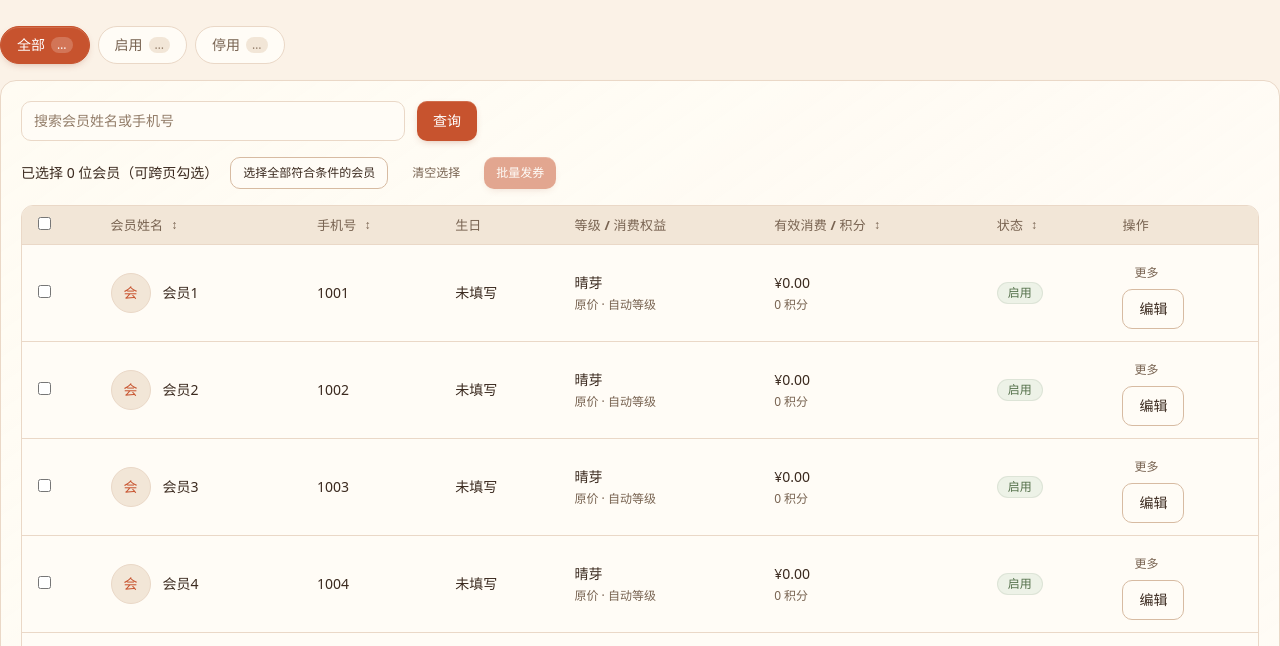
会员批量选择 › 全量选择跨页生效，改搜索条件会清空选择
Click the button "选择全部符合条件的会员".
click(309, 172)  # box [230,156,388,188]
(page scrolled)
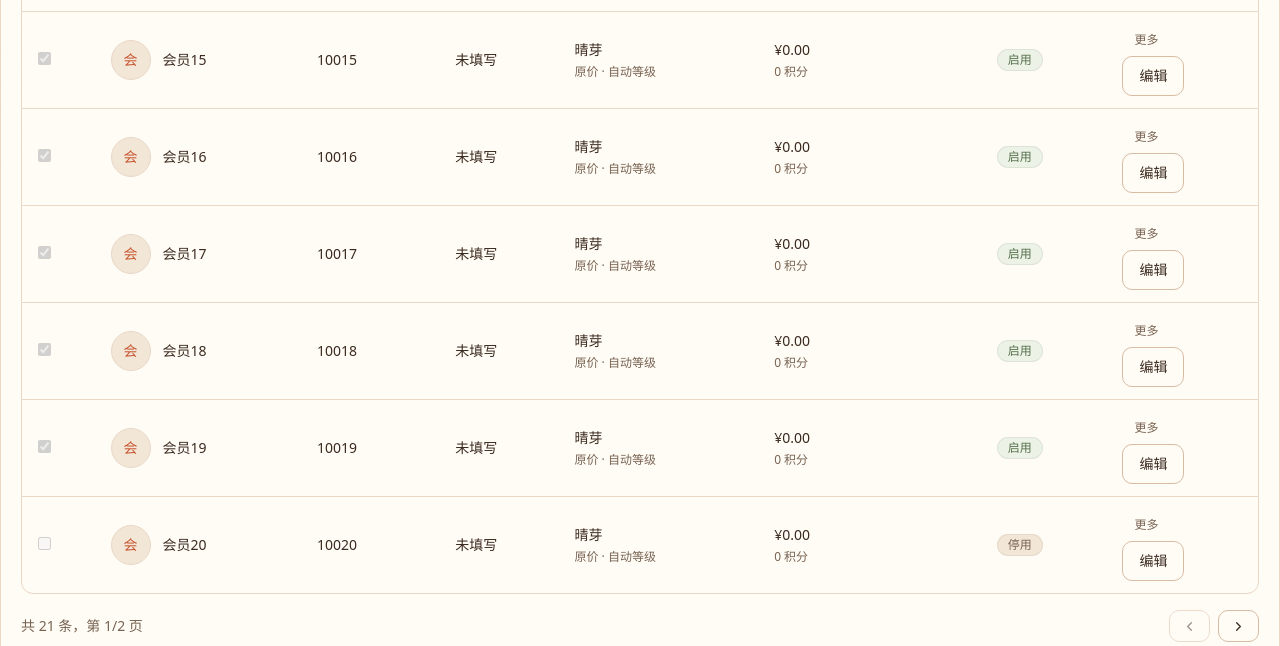
Click the button named "下一页".
click(1238, 626)  # box [1218,610,1259,642]
(page scrolled)
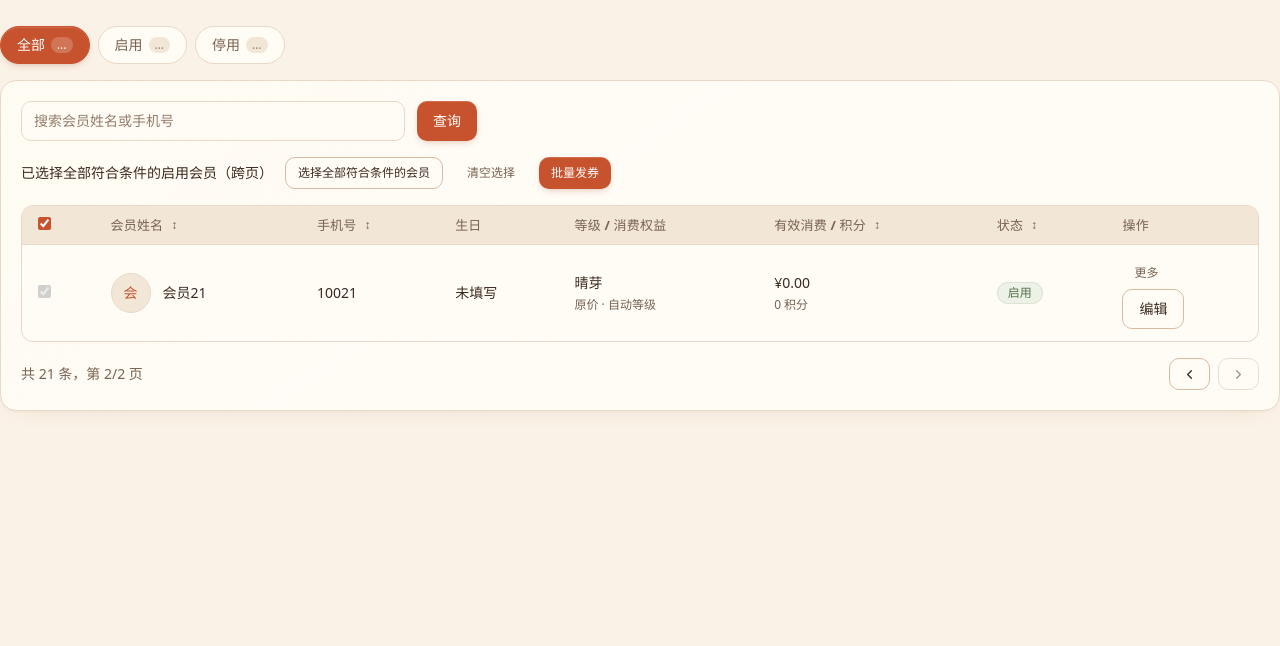
expect the checkbox named "选择会员会员21" is checked: met, box [38,285,51,298]
expect the text "已选择全部符合条件的启用会员（跨页）" is shown: met, box [21,162,273,182]
Type "甲" into the field labelled "搜索会员".
click(213, 120); type("甲")  # box [21,100,405,140]
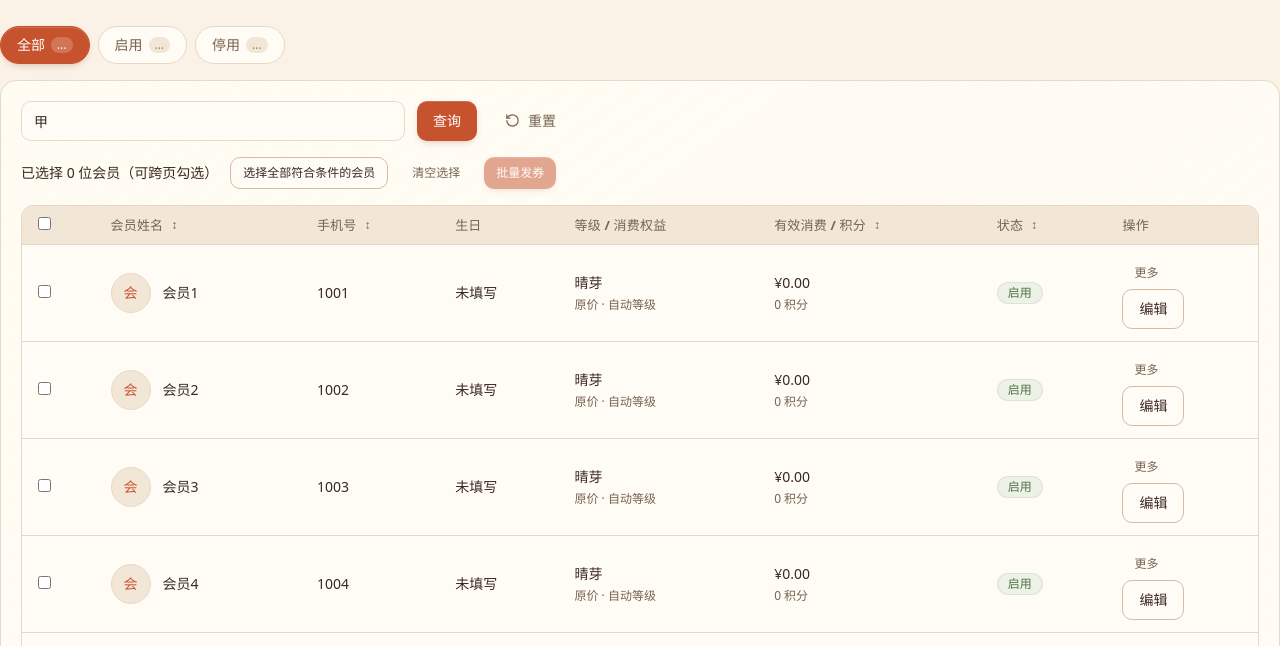
expect the text "已选择 0 位会员（可跨页勾选）" is shown: met, box [21,162,218,182]
expect the button "批量发券" is disabled: met, box [484,156,556,188]
